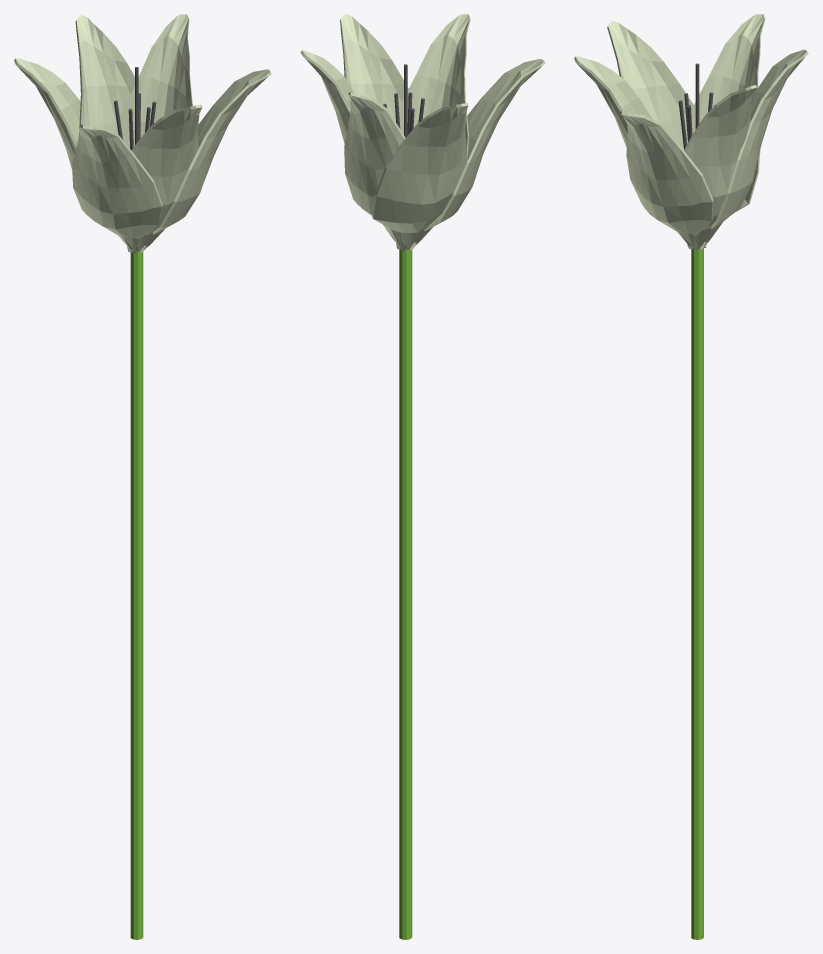
Rendered from liliya_white.dae.
3 views of the same model, side by side, from view 1: azimuth 30°, elevation 25°; view 2: azimuth 150°, elevation 25°; view 3: azimuth 270°, elevation 25° (orthographic).
Parts seen in each view (by area): view 1: Cylinder; view 2: Cylinder; view 3: Cylinder.
Part boxes in pixels (x1,y1,x2,y2): Cylinder: (14, 14, 271, 939); Cylinder: (300, 14, 545, 939); Cylinder: (574, 14, 808, 939).
Size of the model in its own units: 2.38 by 2.46 by 10.29.
